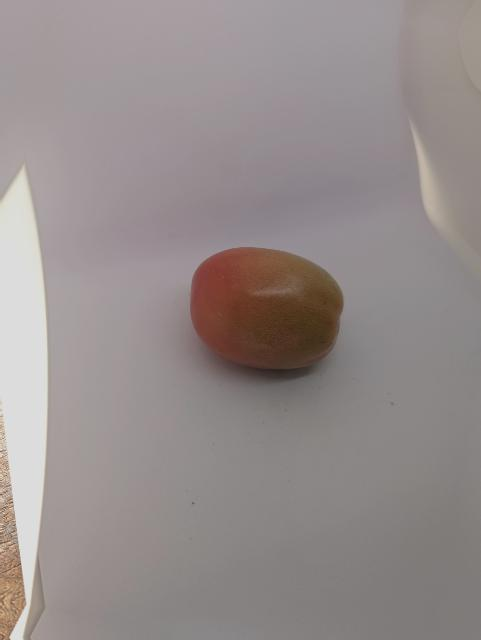turning: (167, 237, 365, 376)
